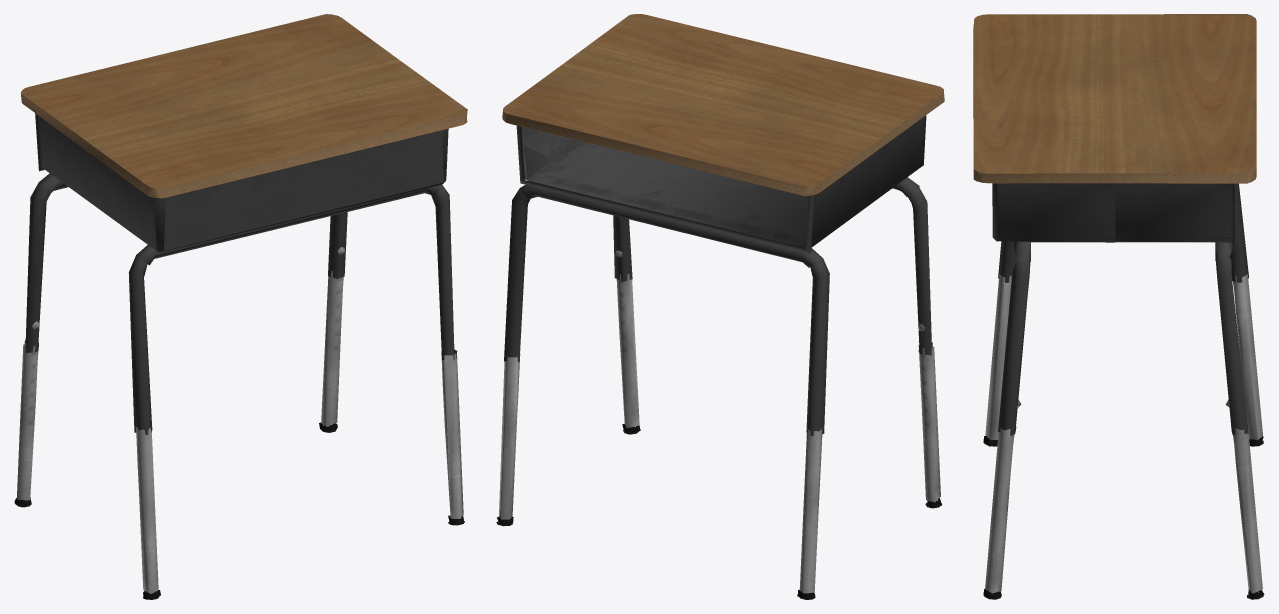
The model's file is desk.glb.
3 views of the same model, side by side, from view 1: azimuth 30°, elevation 25°; view 2: azimuth 150°, elevation 25°; view 3: azimuth 270°, elevation 25° (orthographic). The views are drawn at different scales.
Parts seen in each view (by area): view 1: SchoolDesk_01; view 2: SchoolDesk_01; view 3: SchoolDesk_01.
Boxes of the visible parts, x1,y1,x2,y2 form: SchoolDesk_01: (14, 14, 467, 599); SchoolDesk_01: (496, 14, 944, 599); SchoolDesk_01: (973, 14, 1264, 599).
Bounding box in the file's own units: 0.7143 × 0.8826 × 0.5465.
Materials: 1 (1 with a texture image).
